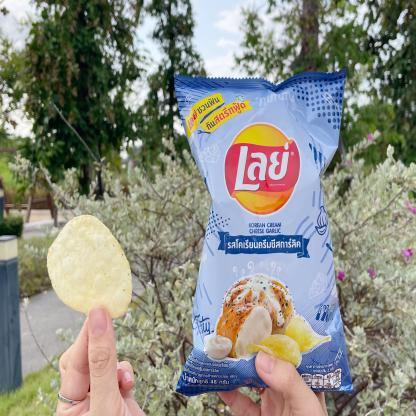potatochip: (164, 66, 357, 402)
